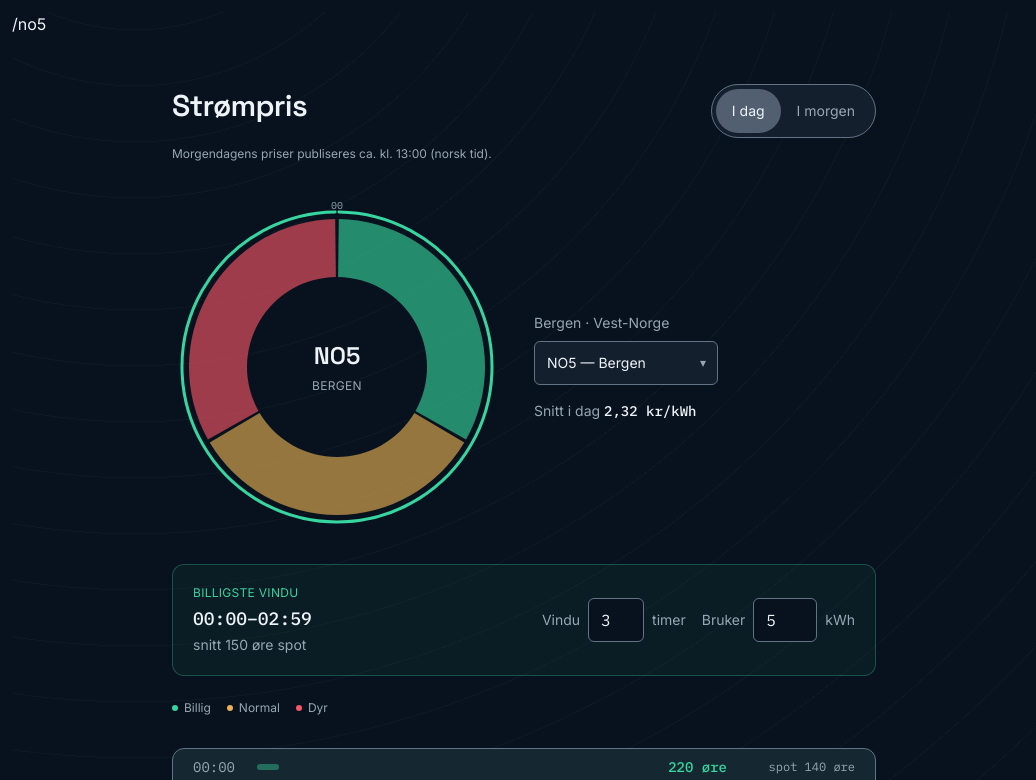
Test: App › switches zones and refetches that zone's prices
The width and height of the screenshot is (1036, 780).
Check: the text "spot 140 øre" is shown, box [769, 759, 855, 774]
Select "NO1 — Oslo" in the dropdown named "sone" at (626, 363), box [534, 341, 718, 385]
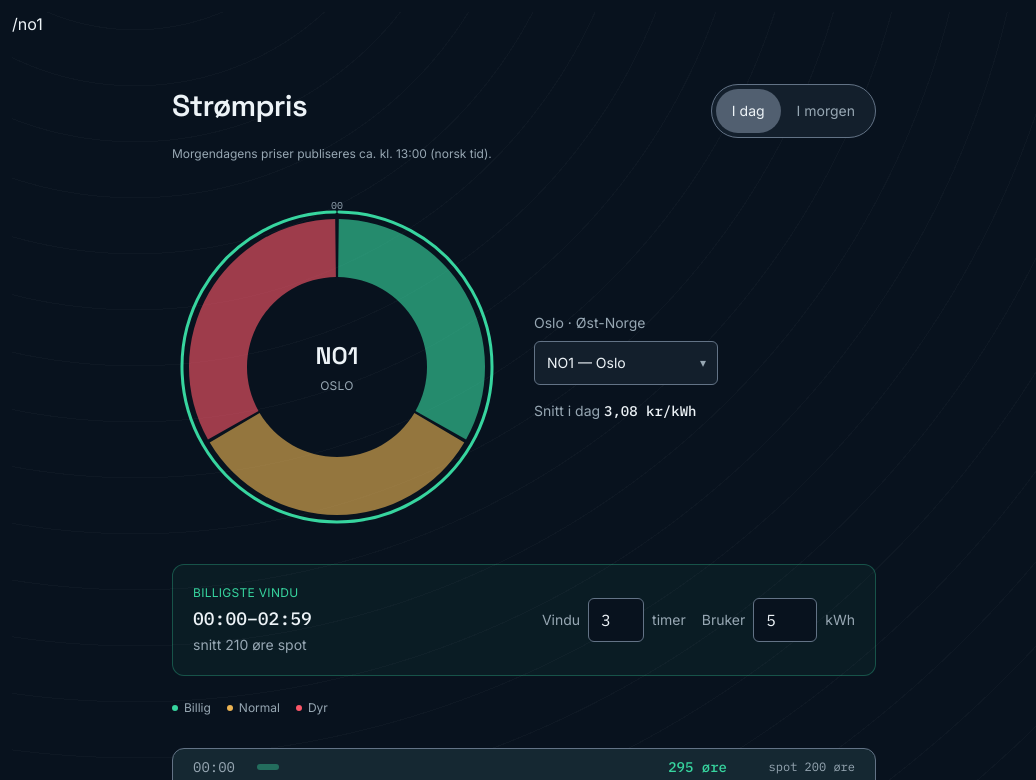
Check: the text "spot 200 øre" is shown, box [769, 759, 855, 774]
Check: the dropdown named "sone" shows "NO1 — Oslo", box [534, 341, 718, 385]
Check: the text with test id "location-spy" reads "/no1", box [12, 14, 43, 34]
